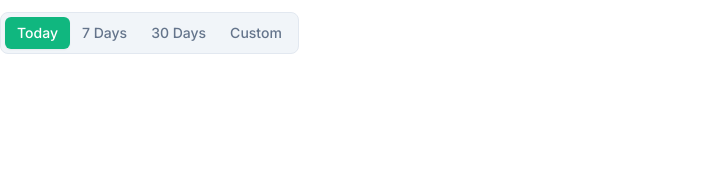
Scenario: PeriodSelector › period selection › shows date picker when selecting Custom
Click the button "Custom" at (256, 33), box [218,17,294,49]
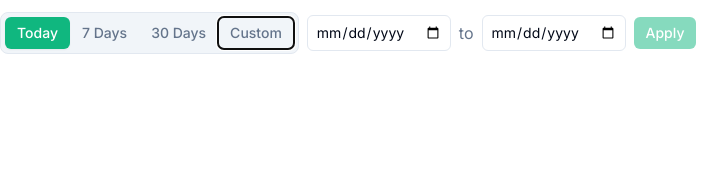
expect the number of date fields is 2: met, box [307,15,451,51]; [482,15,626,51]
expect the button "Apply" is shown: met, box [634,17,696,49]
